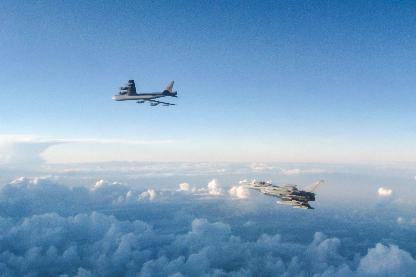B2: (112, 79, 178, 105)
E2: (242, 180, 324, 209)
